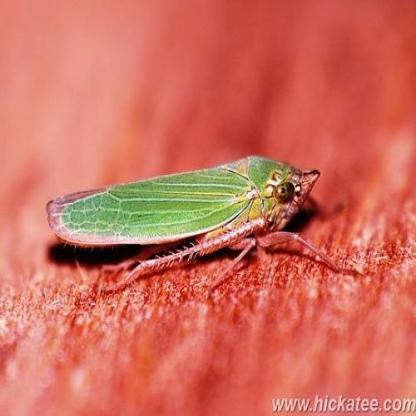green-leafhopper: (47, 156, 334, 296)
